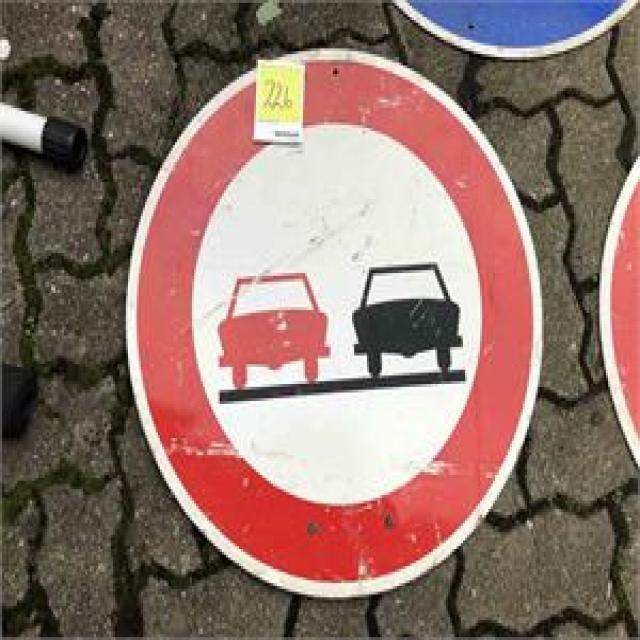no overtaking: (121, 42, 547, 602)
